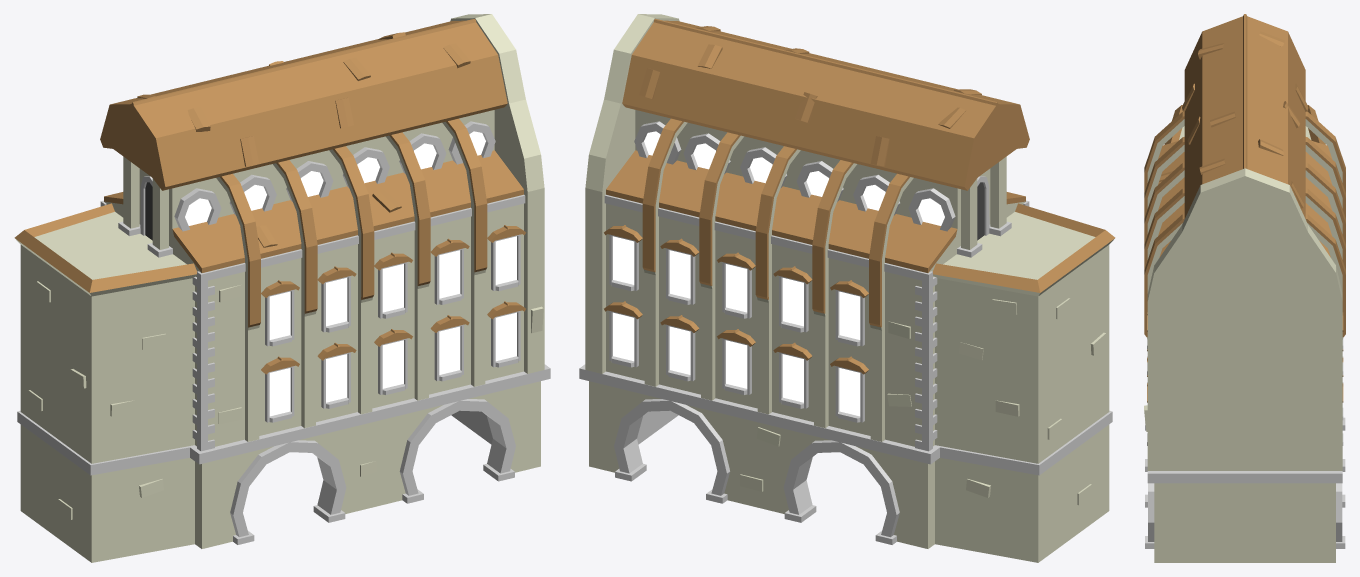
The model's file is Building1.fbx.
3 renders of one model, left to right at view 1: azimuth 30°, elevation 25°; view 2: azimuth 150°, elevation 25°; view 3: azimuth 270°, elevation 25°, orthographic. The views are drawn at different scales.
Visible parts, largest first — view 1: Building1; view 2: Building1; view 3: Building1.
Part boxes in pixels (x1,y1,x2,y2): Building1: (14, 14, 550, 562); Building1: (579, 14, 1115, 562); Building1: (1144, 14, 1345, 562).
Size of the model in its own units: 1578 by 1408 by 665.
